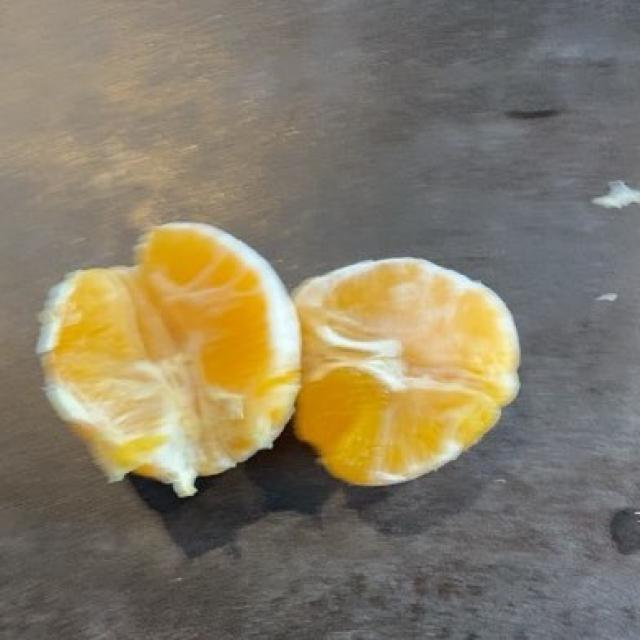mandarine: (45, 223, 504, 492)
